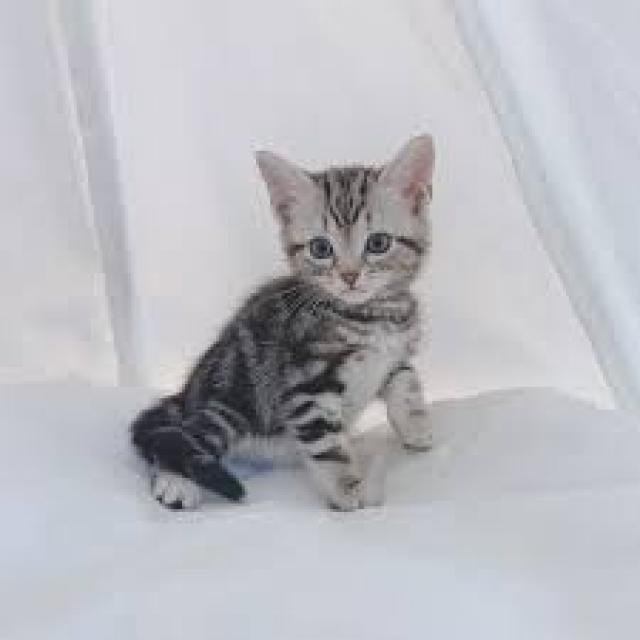cat-face: (225, 95, 500, 329)
